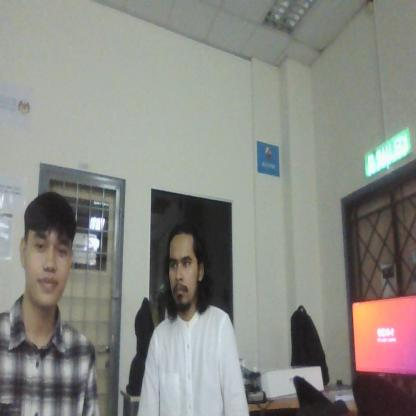Open-Eyes: (25, 230, 72, 266), (166, 248, 194, 278)
